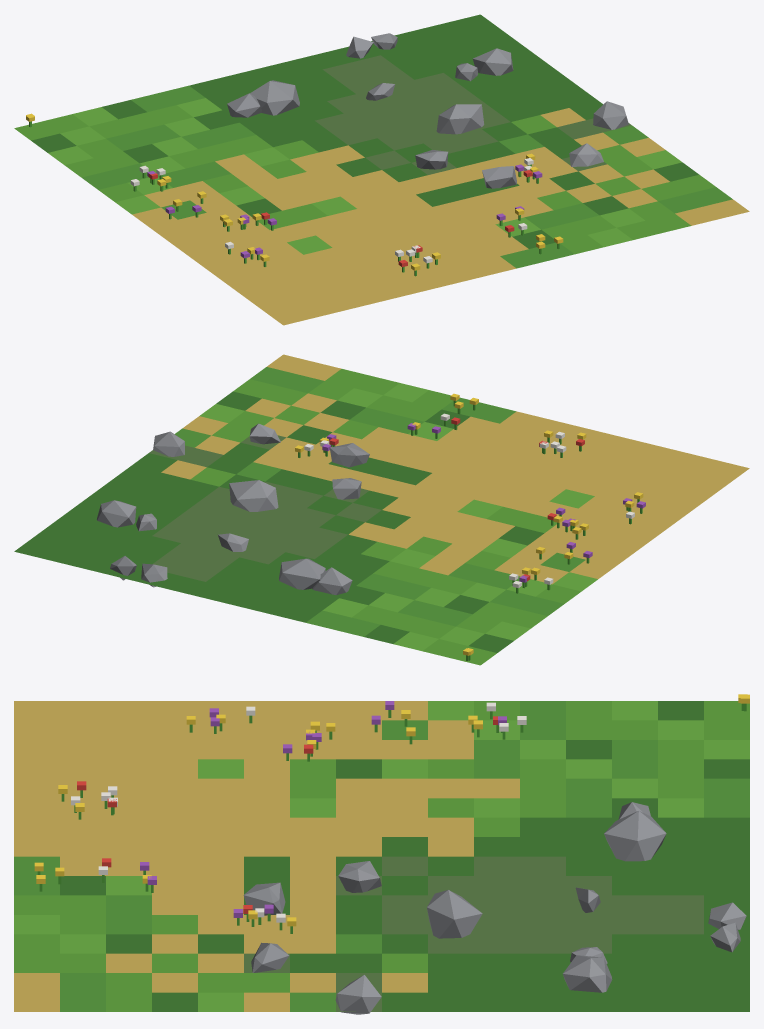
File: chunk_0_10.glb
3 renders of one model, top to bottom at view 1: azimuth 30°, elevation 25°; view 2: azimuth 150°, elevation 25°; view 3: azimuth 270°, elevation 25°, orthographic. The views are drawn at different scales.
Visible parts, largest first — view 1: chunk_0_10; view 2: chunk_0_10; view 3: chunk_0_10.
Part boxes in pixels (box(x1,y1,x2,y2)): chunk_0_10: box(14, 14, 749, 325); chunk_0_10: box(14, 354, 749, 665); chunk_0_10: box(14, 694, 749, 1014).
Size of the model in its own units: 16.03 by 1.36 by 16.
